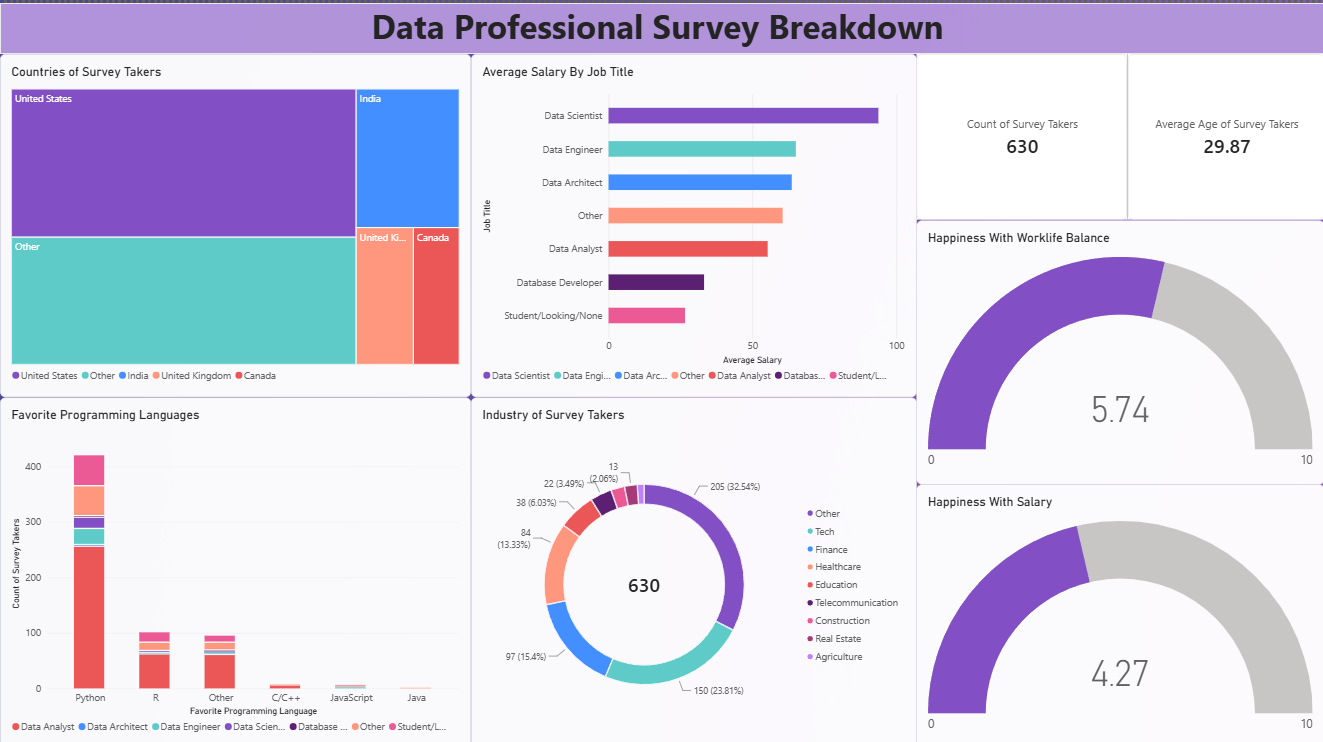

What the dashboard file says about the page in this screenshot:
{"tool":"powerbi","page":{"name":"Page 1","canvas":[1920,1080],"ordinal":0},"visuals":[{"type":"textbox","box":[0.6,0,1919.4,74.2],"z":0},{"type":"cardVisual","fields":{"Data":["Count(Data Professional Survey.Unique ID)"]},"box":[1328.6,74.3,305.7,240],"z":1000},{"type":"cardVisual","fields":{"Data":["Avg(Data Professional Survey.Q10 - Current Age)"]},"box":[1634.3,74.3,285.7,240],"z":2000},{"type":"barChart","title":"Average Salary By Job Title","fields":{"Category":["Data Professional Survey.Q1 - Which Title Best Fits your Current Role?.1"],"Series":["Data Professional Survey.Q1 - Which Title Best Fits your Current Role?.1"],"Y":["Avg(Data Professional Survey.Average Salary)"]},"box":[682.9,74.3,645.7,497.1],"z":3000},{"type":"columnChart","title":"Favorite Programming Languages","fields":{"Category":["Data Professional Survey.Q5 - Favorite Programming Language.1"],"Series":["Data Professional Survey.Q1 - Which Title Best Fits your Current Role?.1"],"Y":["CountNonNull(Data Professional Survey.Unique ID)"]},"box":[0,571.4,682.9,508.6],"z":4000},{"type":"treemap","title":"Countries of Survey Takers","fields":{"Group":["Data Professional Survey.Q11 - Which Country do you live in?.1"],"Values":["CountNonNull(Data Professional Survey.Q11 - Which Country do you live in?.1)"]},"box":[0,74.3,682.9,497.1],"z":4001},{"type":"gauge","title":"Happiness With Worklife Balance","fields":{"MaxValue":["Max(Data Professional Survey.Q6 - How Happy are you in your Current Position with the following? (Work/Life Balance))1"],"MinValue":["Min(Data Professional Survey.Q6 - How Happy are you in your Current Position with the following? (Work/Life Balance))"],"Y":["Avg(Data Professional Survey.Q6 - How Happy are you in your Current Position with the following? (Work/Life Balance))"]},"box":[1328.6,314.3,591.4,382.9],"z":4002},{"type":"gauge","title":"Happiness With Salary","fields":{"MaxValue":["Max(Data Professional Survey.Q6 - How Happy are you in your Current Position with the following? (Salary))"],"MinValue":["Min(Data Professional Survey.Q6 - How Happy are you in your Current Position with the following? (Salary))"],"Y":["Avg(Data Professional Survey.Q6 - How Happy are you in your Current Position with the following? (Salary))"]},"box":[1328.6,697.1,591.4,382.9],"z":4003},{"type":"donutChart","title":"Industry of Survey Takers","fields":{"Category":["Data Professional Survey.Q4 - What Industry do you work in?.1"],"Y":["CountNonNull(Data Professional Survey.Q4 - What Industry do you work in?.1)"]},"box":[682.9,571.4,645.7,508.6],"z":4004}]}

Visuals, with their boxes in screenshot pixels (x1, y1, x2, y2), scaled from the page's 1920x1080 canvas onto the 1323x742 screenshot:
textbox: BBox(0, 0, 1322, 51)
cardVisual - Count(Data Professional Survey.Unique ID): BBox(915, 51, 1126, 216)
cardVisual - Avg(Data Professional Survey.Q10 - Current Age): BBox(1126, 51, 1322, 216)
"Average Salary By Job Title" barChart: BBox(471, 51, 915, 393)
"Favorite Programming Languages" columnChart: BBox(0, 393, 471, 741)
"Countries of Survey Takers" treemap: BBox(0, 51, 471, 393)
"Happiness With Worklife Balance" gauge: BBox(915, 216, 1322, 479)
"Happiness With Salary" gauge: BBox(915, 479, 1322, 741)
"Industry of Survey Takers" donutChart: BBox(471, 393, 915, 741)
